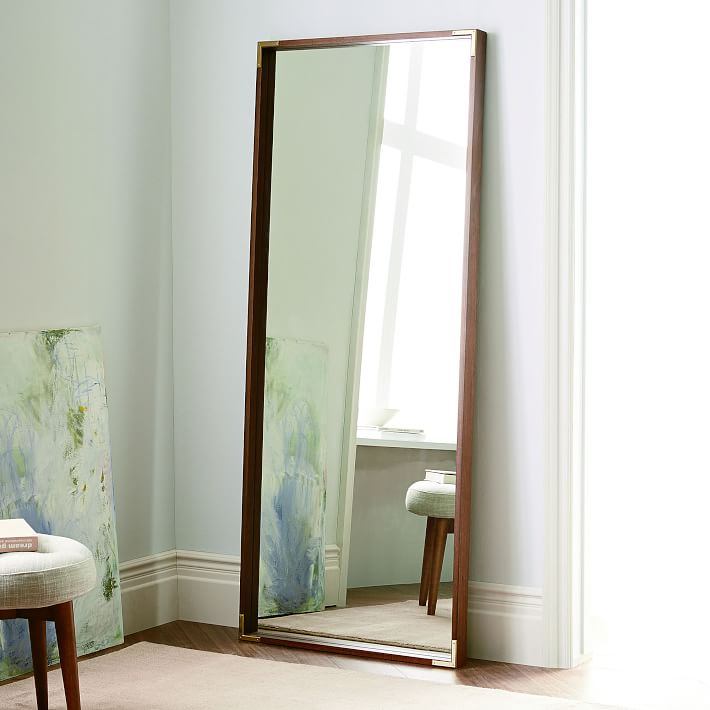Nonrec_Glass: (226, 31, 491, 671)
